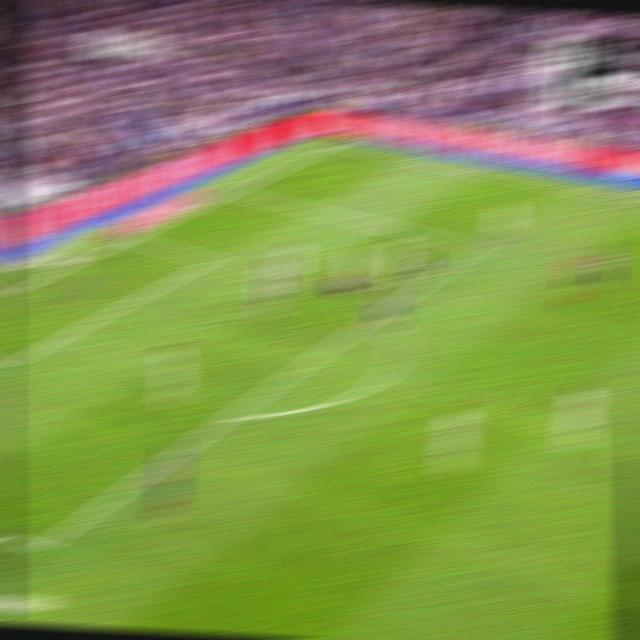bigarea_bottom_inner: (26, 530, 55, 563)
bigarea_top_inner: (465, 236, 490, 256)
bottom_arc_area_intersection: (218, 402, 244, 428)
corner: (325, 138, 351, 150)
smallarea_top_inner: (465, 236, 490, 256)
top_arc_area_intersection: (369, 308, 390, 320)
